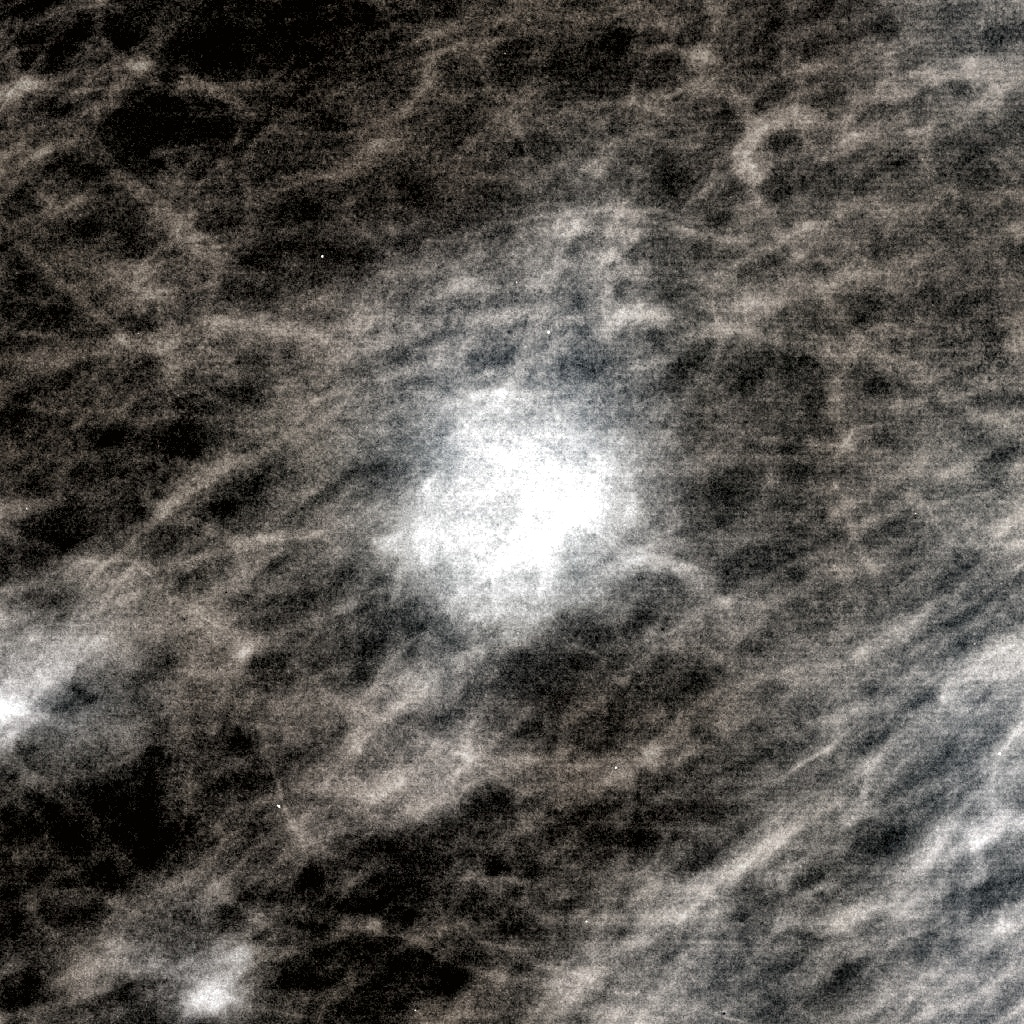tumor: (358, 359, 666, 665)
